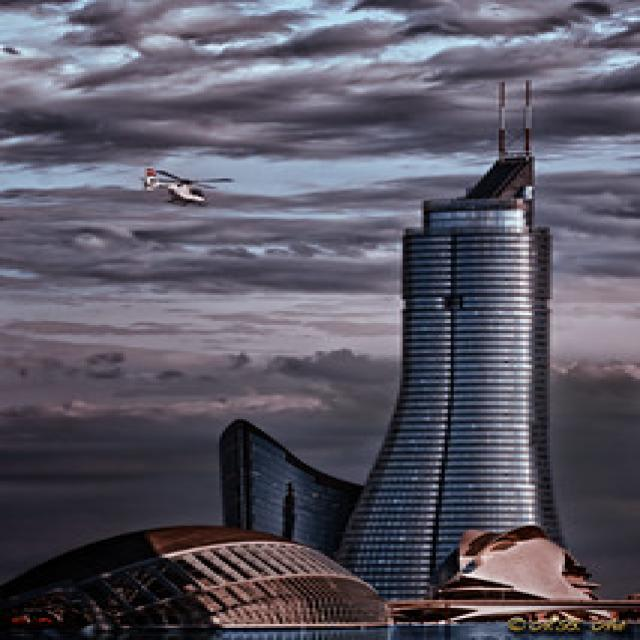Normal_building: (339, 145, 589, 605)
